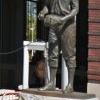Statue: (33, 2, 86, 97)
